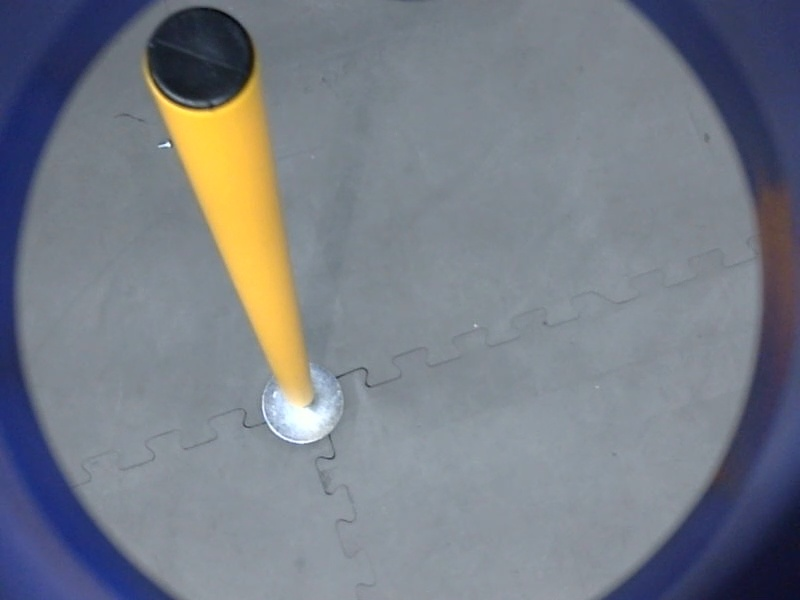tip: (136, 3, 265, 121)
